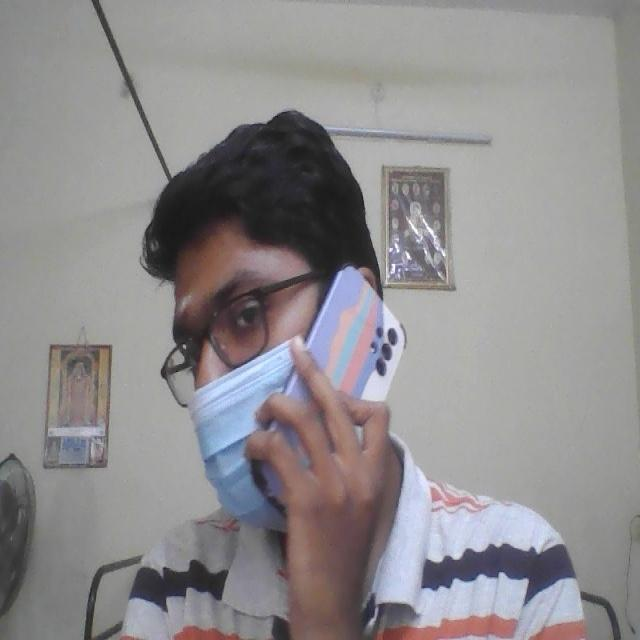Mobile: (295, 249, 418, 435)
